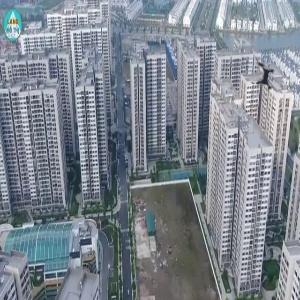drone: (234, 46, 296, 108)
